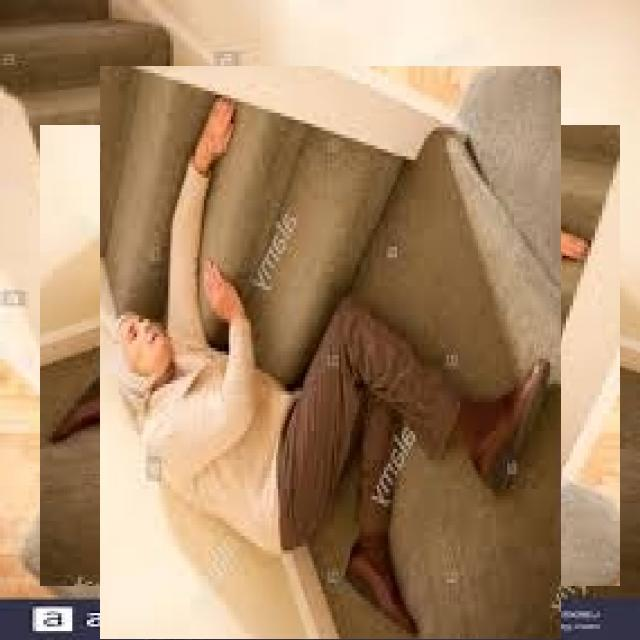Fall: (105, 69, 554, 640)
